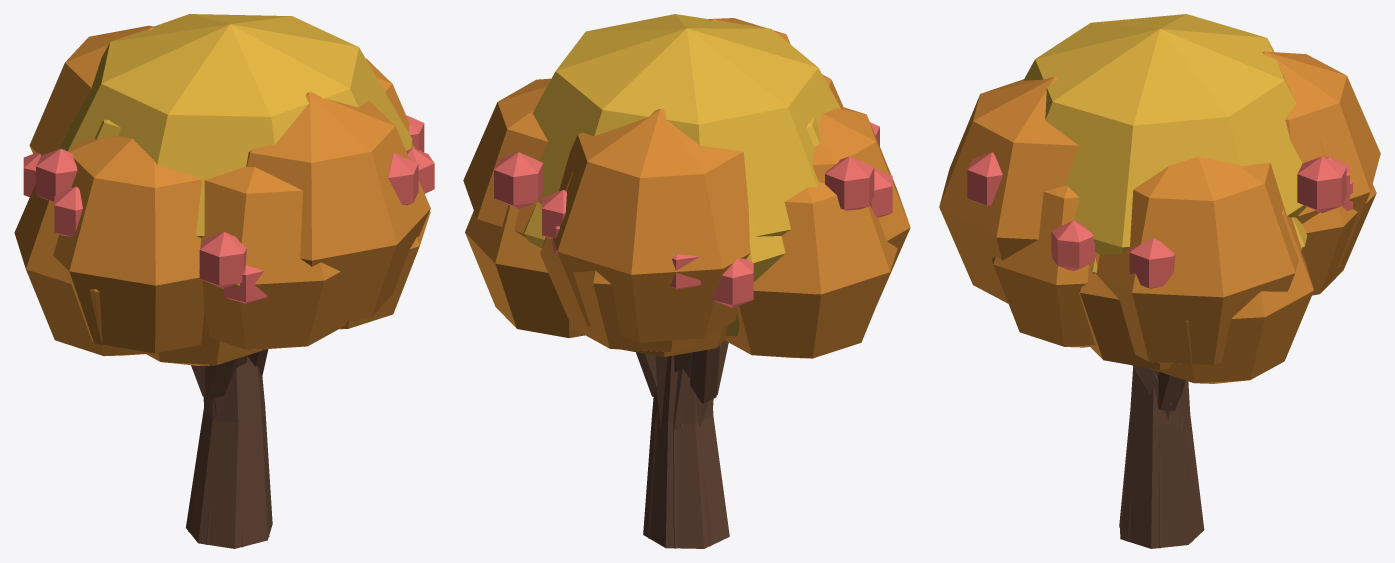
The model's file is tree_apple_autumn.glb.
3 views of the same model, side by side, from view 1: azimuth 30°, elevation 25°; view 2: azimuth 150°, elevation 25°; view 3: azimuth 270°, elevation 25° (orthographic).
Parts seen in each view (by area): view 1: Apple_low_crown_canopy.002, Apple_round_lobe_canopy.010, Apple_round_lobe_canopy.011, Apple_round_lobe_canopy.003, Apple_short_trunk.002, Apple_round_lobe_canopy.002, Apple_round_lobe_canopy.009, Apple_fruit.016, Apple_round_lobe_canopy.006, Apple_fruit.015, Apple_fruit.017, Apple_fruit.003 (+7 smaller); view 2: Apple_low_crown_canopy.002, Apple_round_lobe_canopy.009, Apple_round_lobe_canopy.002, Apple_short_trunk.002, Apple_round_lobe_canopy.004, Apple_round_lobe_canopy.008, Apple_round_lobe_canopy.001, Apple_round_lobe_canopy.010, Apple_fruit.013, Apple_short_trunk, Apple_fruit.015, Apple_low_crown_canopy (+9 smaller); view 3: Apple_low_crown_canopy.002, Apple_round_lobe_canopy.008, Apple_round_lobe_canopy.011, Apple_short_trunk.002, Apple_round_lobe_canopy.009, Apple_round_lobe_canopy.007, Apple_round_lobe_canopy.004, Apple_round_lobe_canopy.001, Apple_round_lobe_canopy, Apple_fruit.013, Apple_fruit.011, Apple_fruit.012 (+3 smaller).
Boxes of the visible parts, box(x1,y1,x2,y2) form: Apple_low_crown_canopy.002: box(59, 14, 412, 237); Apple_round_lobe_canopy.010: box(53, 136, 204, 353); Apple_round_lobe_canopy.011: box(246, 92, 430, 325); Apple_round_lobe_canopy.003: box(199, 166, 346, 349); Apple_short_trunk.002: box(186, 357, 272, 548); Apple_round_lobe_canopy.002: box(14, 149, 156, 356); Apple_round_lobe_canopy.009: box(29, 25, 154, 155); Apple_fruit.016: box(199, 232, 246, 288); Apple_round_lobe_canopy.006: box(146, 311, 262, 365); Apple_fruit.015: box(36, 148, 77, 201); Apple_fruit.017: box(388, 153, 418, 205); Apple_fruit.003: box(54, 186, 82, 236); Apple_low_crown_canopy.002: box(532, 14, 840, 236); Apple_round_lobe_canopy.009: box(553, 109, 750, 342); Apple_round_lobe_canopy.002: box(725, 182, 897, 358); Apple_short_trunk.002: box(643, 355, 729, 548); Apple_round_lobe_canopy.004: box(465, 205, 584, 338); Apple_round_lobe_canopy.008: box(463, 78, 550, 237); Apple_round_lobe_canopy.001: box(540, 172, 701, 352); Apple_round_lobe_canopy.010: box(812, 106, 910, 301); Apple_fruit.013: box(494, 152, 543, 208); Apple_short_trunk: box(648, 369, 713, 548); Apple_fruit.015: box(825, 156, 874, 210); Apple_low_crown_canopy: box(726, 117, 819, 336); Apple_low_crown_canopy.002: box(1023, 14, 1306, 254); Apple_round_lobe_canopy.008: box(1096, 156, 1301, 364); Apple_round_lobe_canopy.011: box(939, 77, 1078, 303); Apple_short_trunk.002: box(1119, 367, 1204, 548); Apple_round_lobe_canopy.009: box(1262, 51, 1380, 267); Apple_round_lobe_canopy.007: box(991, 186, 1094, 347); Apple_round_lobe_canopy.004: box(1150, 209, 1313, 383); Apple_round_lobe_canopy.001: box(1301, 139, 1376, 295); Apple_round_lobe_canopy: box(1078, 252, 1170, 369); Apple_fruit.013: box(1297, 156, 1346, 212); Apple_fruit.011: box(1051, 220, 1094, 270); Apple_fruit.012: box(1129, 238, 1174, 288).
Bounding box in the file's own units: 1.85 × 2.25 × 1.79.
